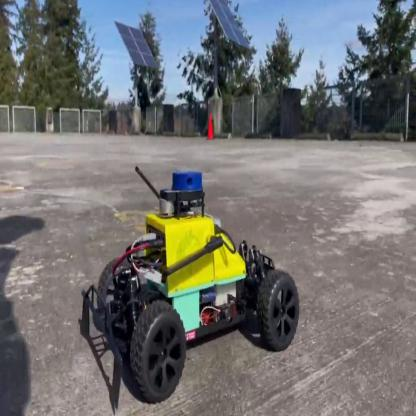cone: (207, 112, 215, 144)
mushr_car: (81, 158, 302, 411)
